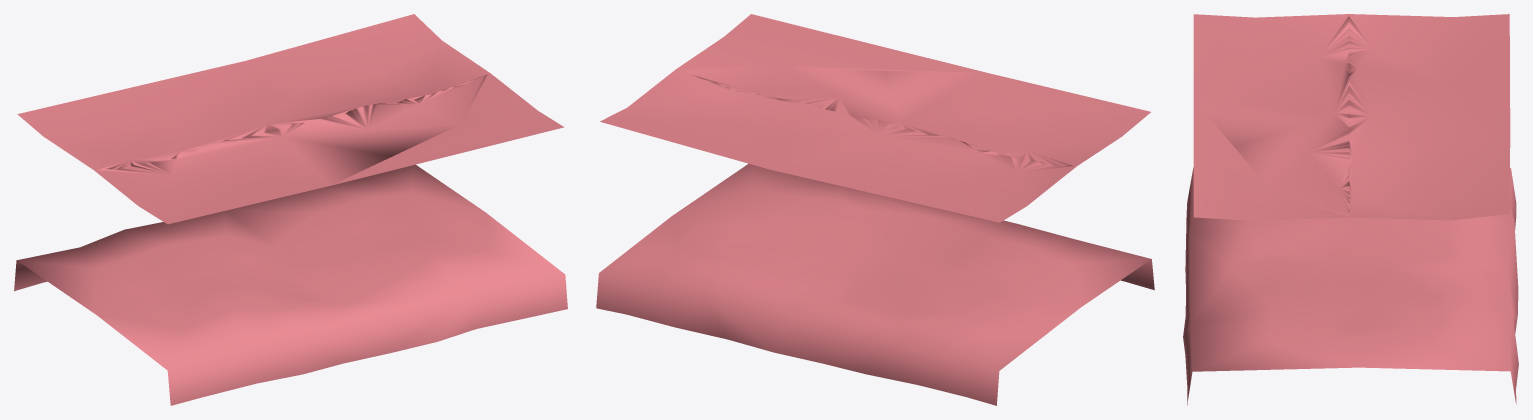
The model's file is 1x1 Wider Lip.fbx.
The picture shows the model from 3 angles, left to right: view 1: azimuth 30°, elevation 25°; view 2: azimuth 150°, elevation 25°; view 3: azimuth 270°, elevation 25°; orthographic projection. The views are drawn at different scales.
Visible parts, largest first — view 1: Wider Lip_low; view 2: Wider Lip_low; view 3: Wider Lip_low.
Boxes of the visible parts, box(x1,y1,x2,y2) form: Wider Lip_low: box(14, 14, 567, 405); Wider Lip_low: box(596, 14, 1154, 405); Wider Lip_low: box(1183, 14, 1518, 405).
Bounding box in the file's own units: 270 × 119 × 188.
